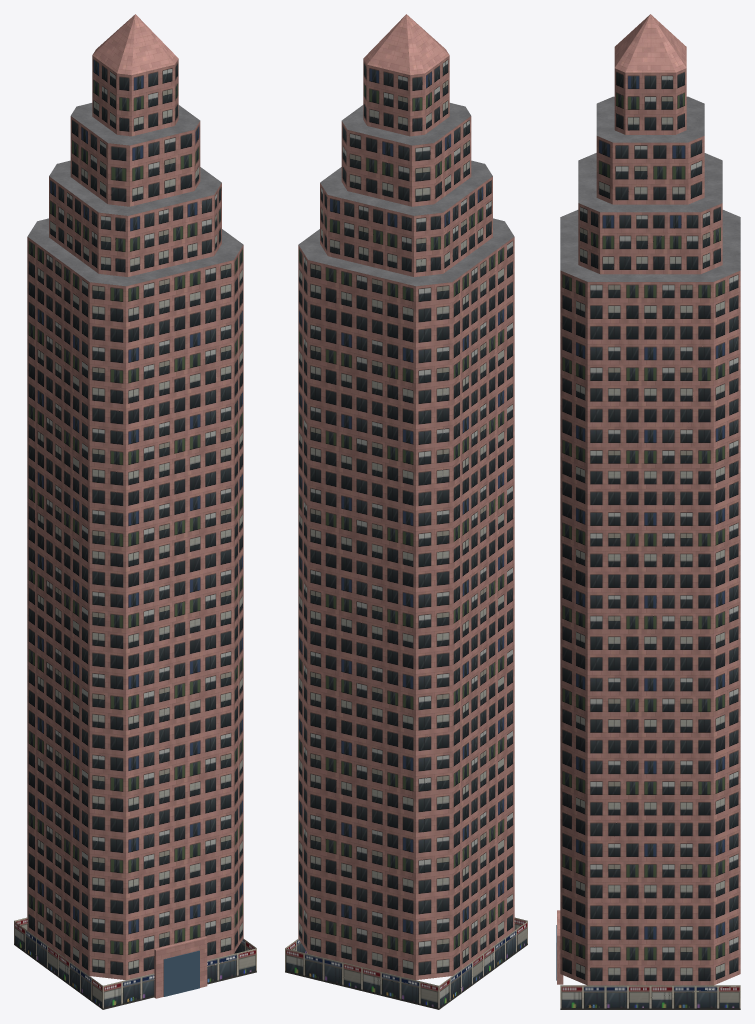
Rendered from 047_postmodern_stepped.glb.
3 renders of one model, left to right at view 1: azimuth 30°, elevation 25°; view 2: azimuth 150°, elevation 25°; view 3: azimuth 270°, elevation 25°, orthographic.
Visible parts, largest first — view 1: 047_postmodern_stepped; view 2: 047_postmodern_stepped; view 3: 047_postmodern_stepped.
Part boxes in pixels (left/top/right/bottom): 047_postmodern_stepped: left=14, top=14, right=256, bottom=1009; 047_postmodern_stepped: left=285, top=14, right=527, bottom=1009; 047_postmodern_stepped: left=556, top=14, right=740, bottom=1009.
Bounding box in the file's own units: 30 × 176 × 30.7.
Materials: 5 (4 with a texture image).
